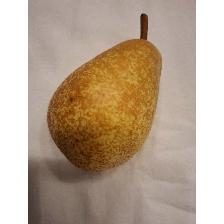Birne: (44, 11, 164, 175)
